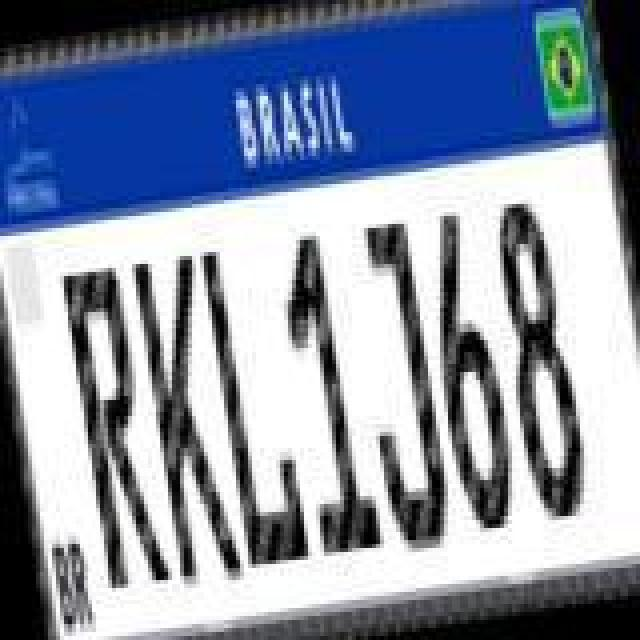1: (270, 224, 386, 560)
6: (412, 206, 524, 538)
8: (480, 184, 592, 520)
J: (342, 214, 458, 554)
K: (126, 256, 242, 592)
L: (198, 238, 314, 570)
R: (54, 258, 170, 590)
